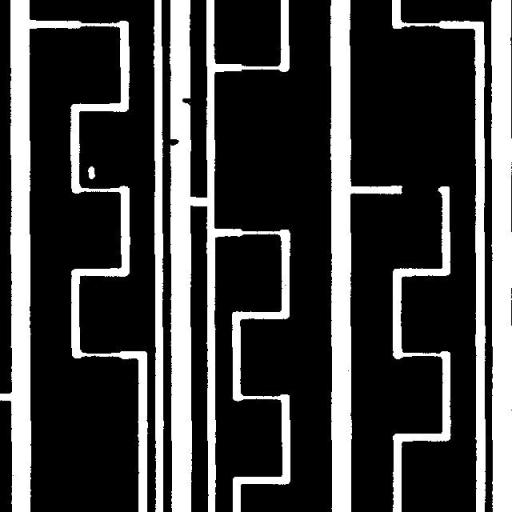open: (180, 188, 218, 214)
pin-hole: (80, 158, 102, 186)
short: (394, 176, 446, 202)
spur: (156, 131, 186, 153), (174, 90, 201, 114)
